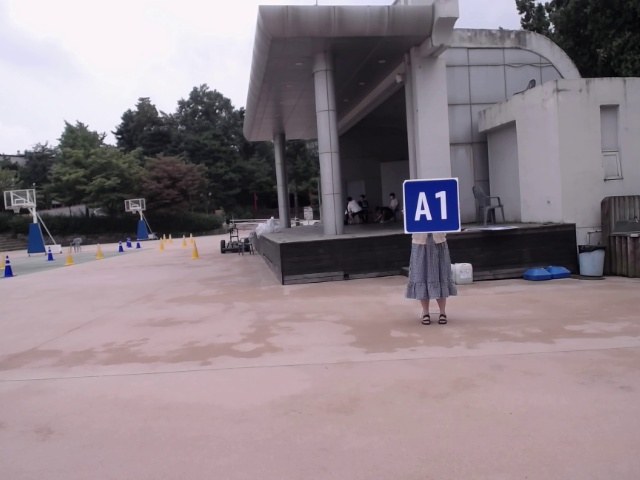delivery_a1: (403, 178, 460, 233)
